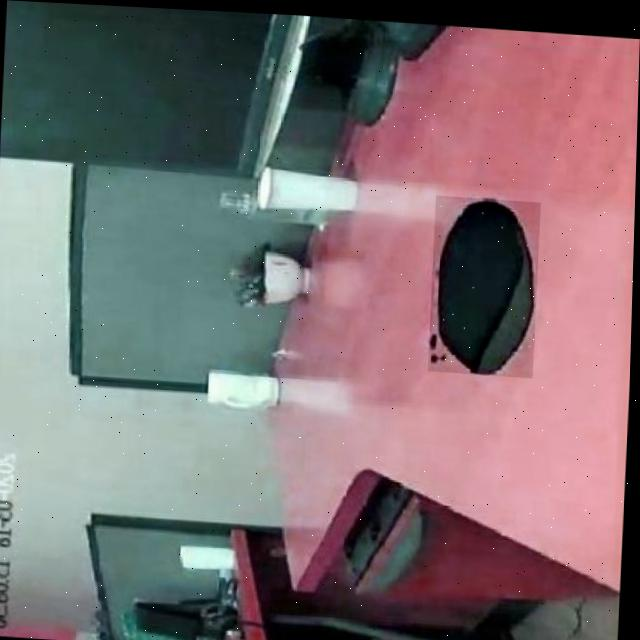spillage: (430, 194, 535, 368)
